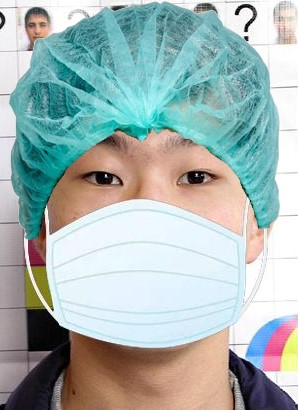with_mask_and_cap: (17, 5, 274, 354)
